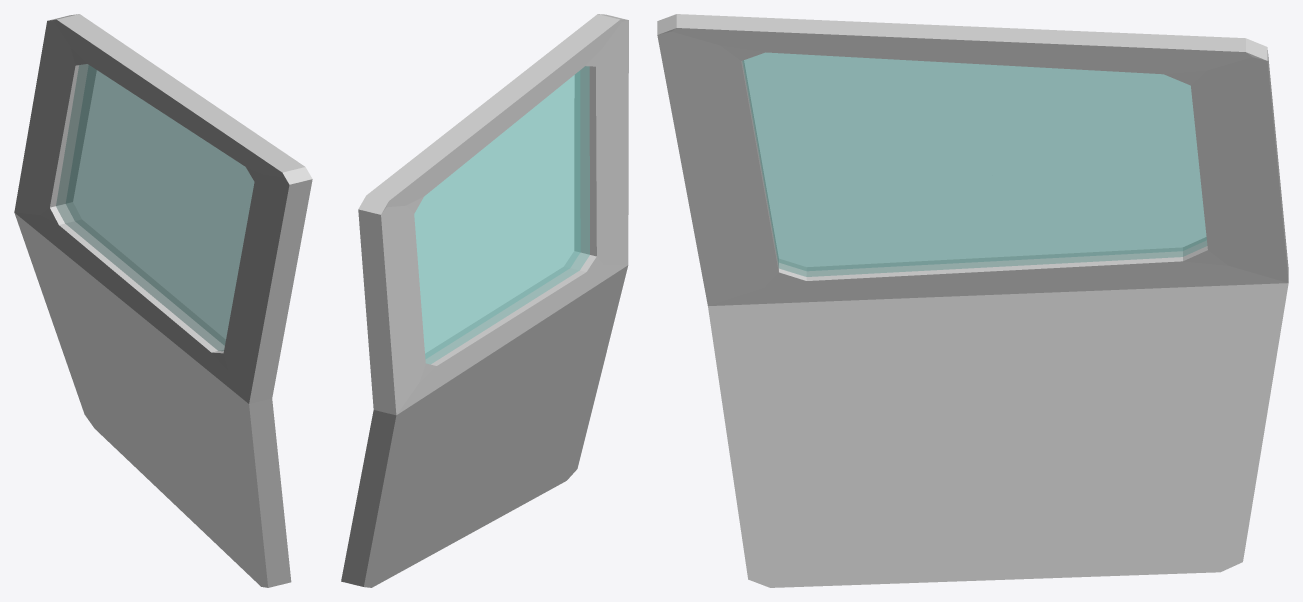
File: rightdoor.fbx
3 views of the same model, side by side, from view 1: azimuth 30°, elevation 25°; view 2: azimuth 150°, elevation 25°; view 3: azimuth 270°, elevation 25° (orthographic). The views are drawn at different scales.
Parts seen in each view (by area): view 1: door_right; view 2: door_right; view 3: door_right.
Part boxes in pixels (x1=…): door_right: x1=14, y1=14, x2=312, y2=587; door_right: x1=341, y1=14, x2=628, y2=587; door_right: x1=657, y1=14, x2=1288, y2=587.
Bounding box in the file's own units: 13.15 × 73.09 × 76.04.
